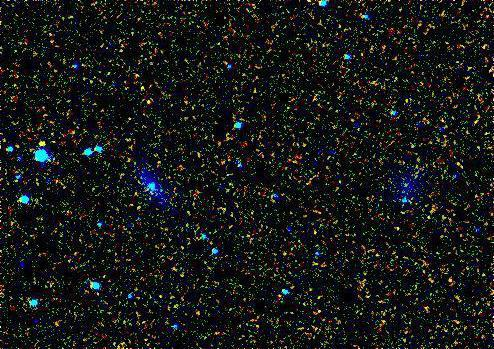star: (27, 130, 57, 160)
